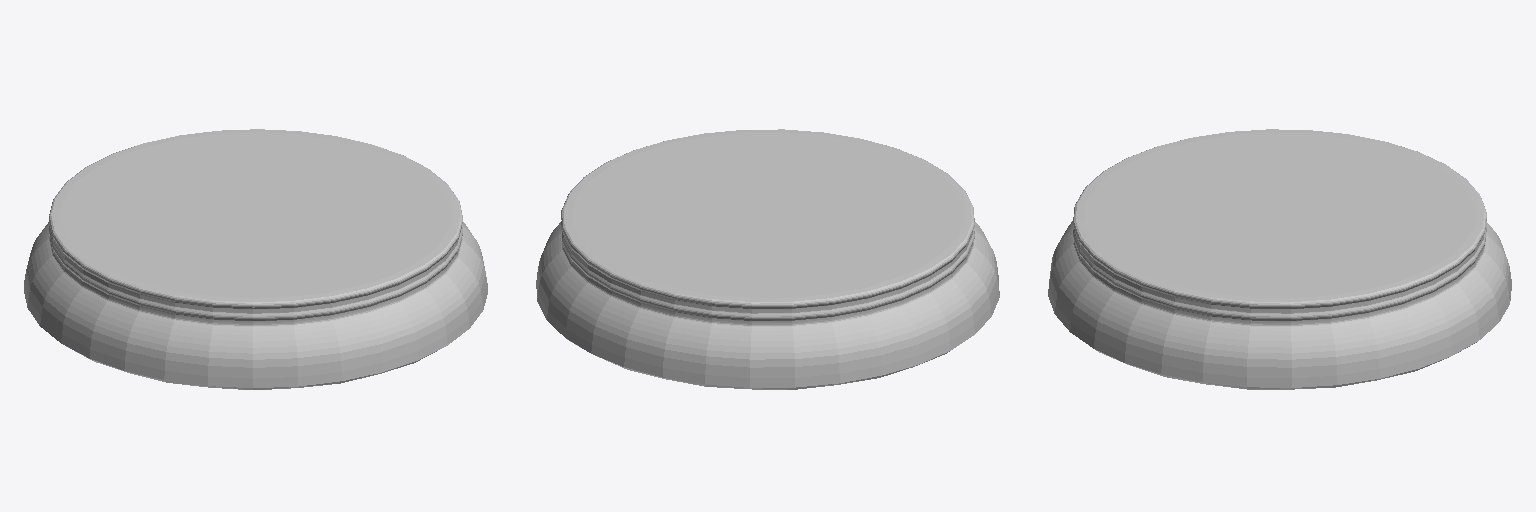
3 views of the same model, side by side, from view 1: azimuth 30°, elevation 25°; view 2: azimuth 150°, elevation 25°; view 3: azimuth 270°, elevation 25° (orthographic).
Visible parts, largest first — view 1: Podest_Mesh; view 2: Podest_Mesh; view 3: Podest_Mesh.
Boxes of the visible parts, box(x1,y1,x2,y2) form: Podest_Mesh: box(24, 129, 487, 389); Podest_Mesh: box(536, 129, 999, 389); Podest_Mesh: box(1048, 129, 1511, 389).
Size of the model in its own units: 1.18 by 0.2284 by 1.18.